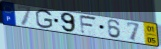6: (106, 19, 122, 40)
7: (17, 4, 34, 27), (127, 21, 142, 42)
9: (60, 12, 78, 33)
F: (79, 15, 99, 36)
G: (35, 9, 54, 30)
